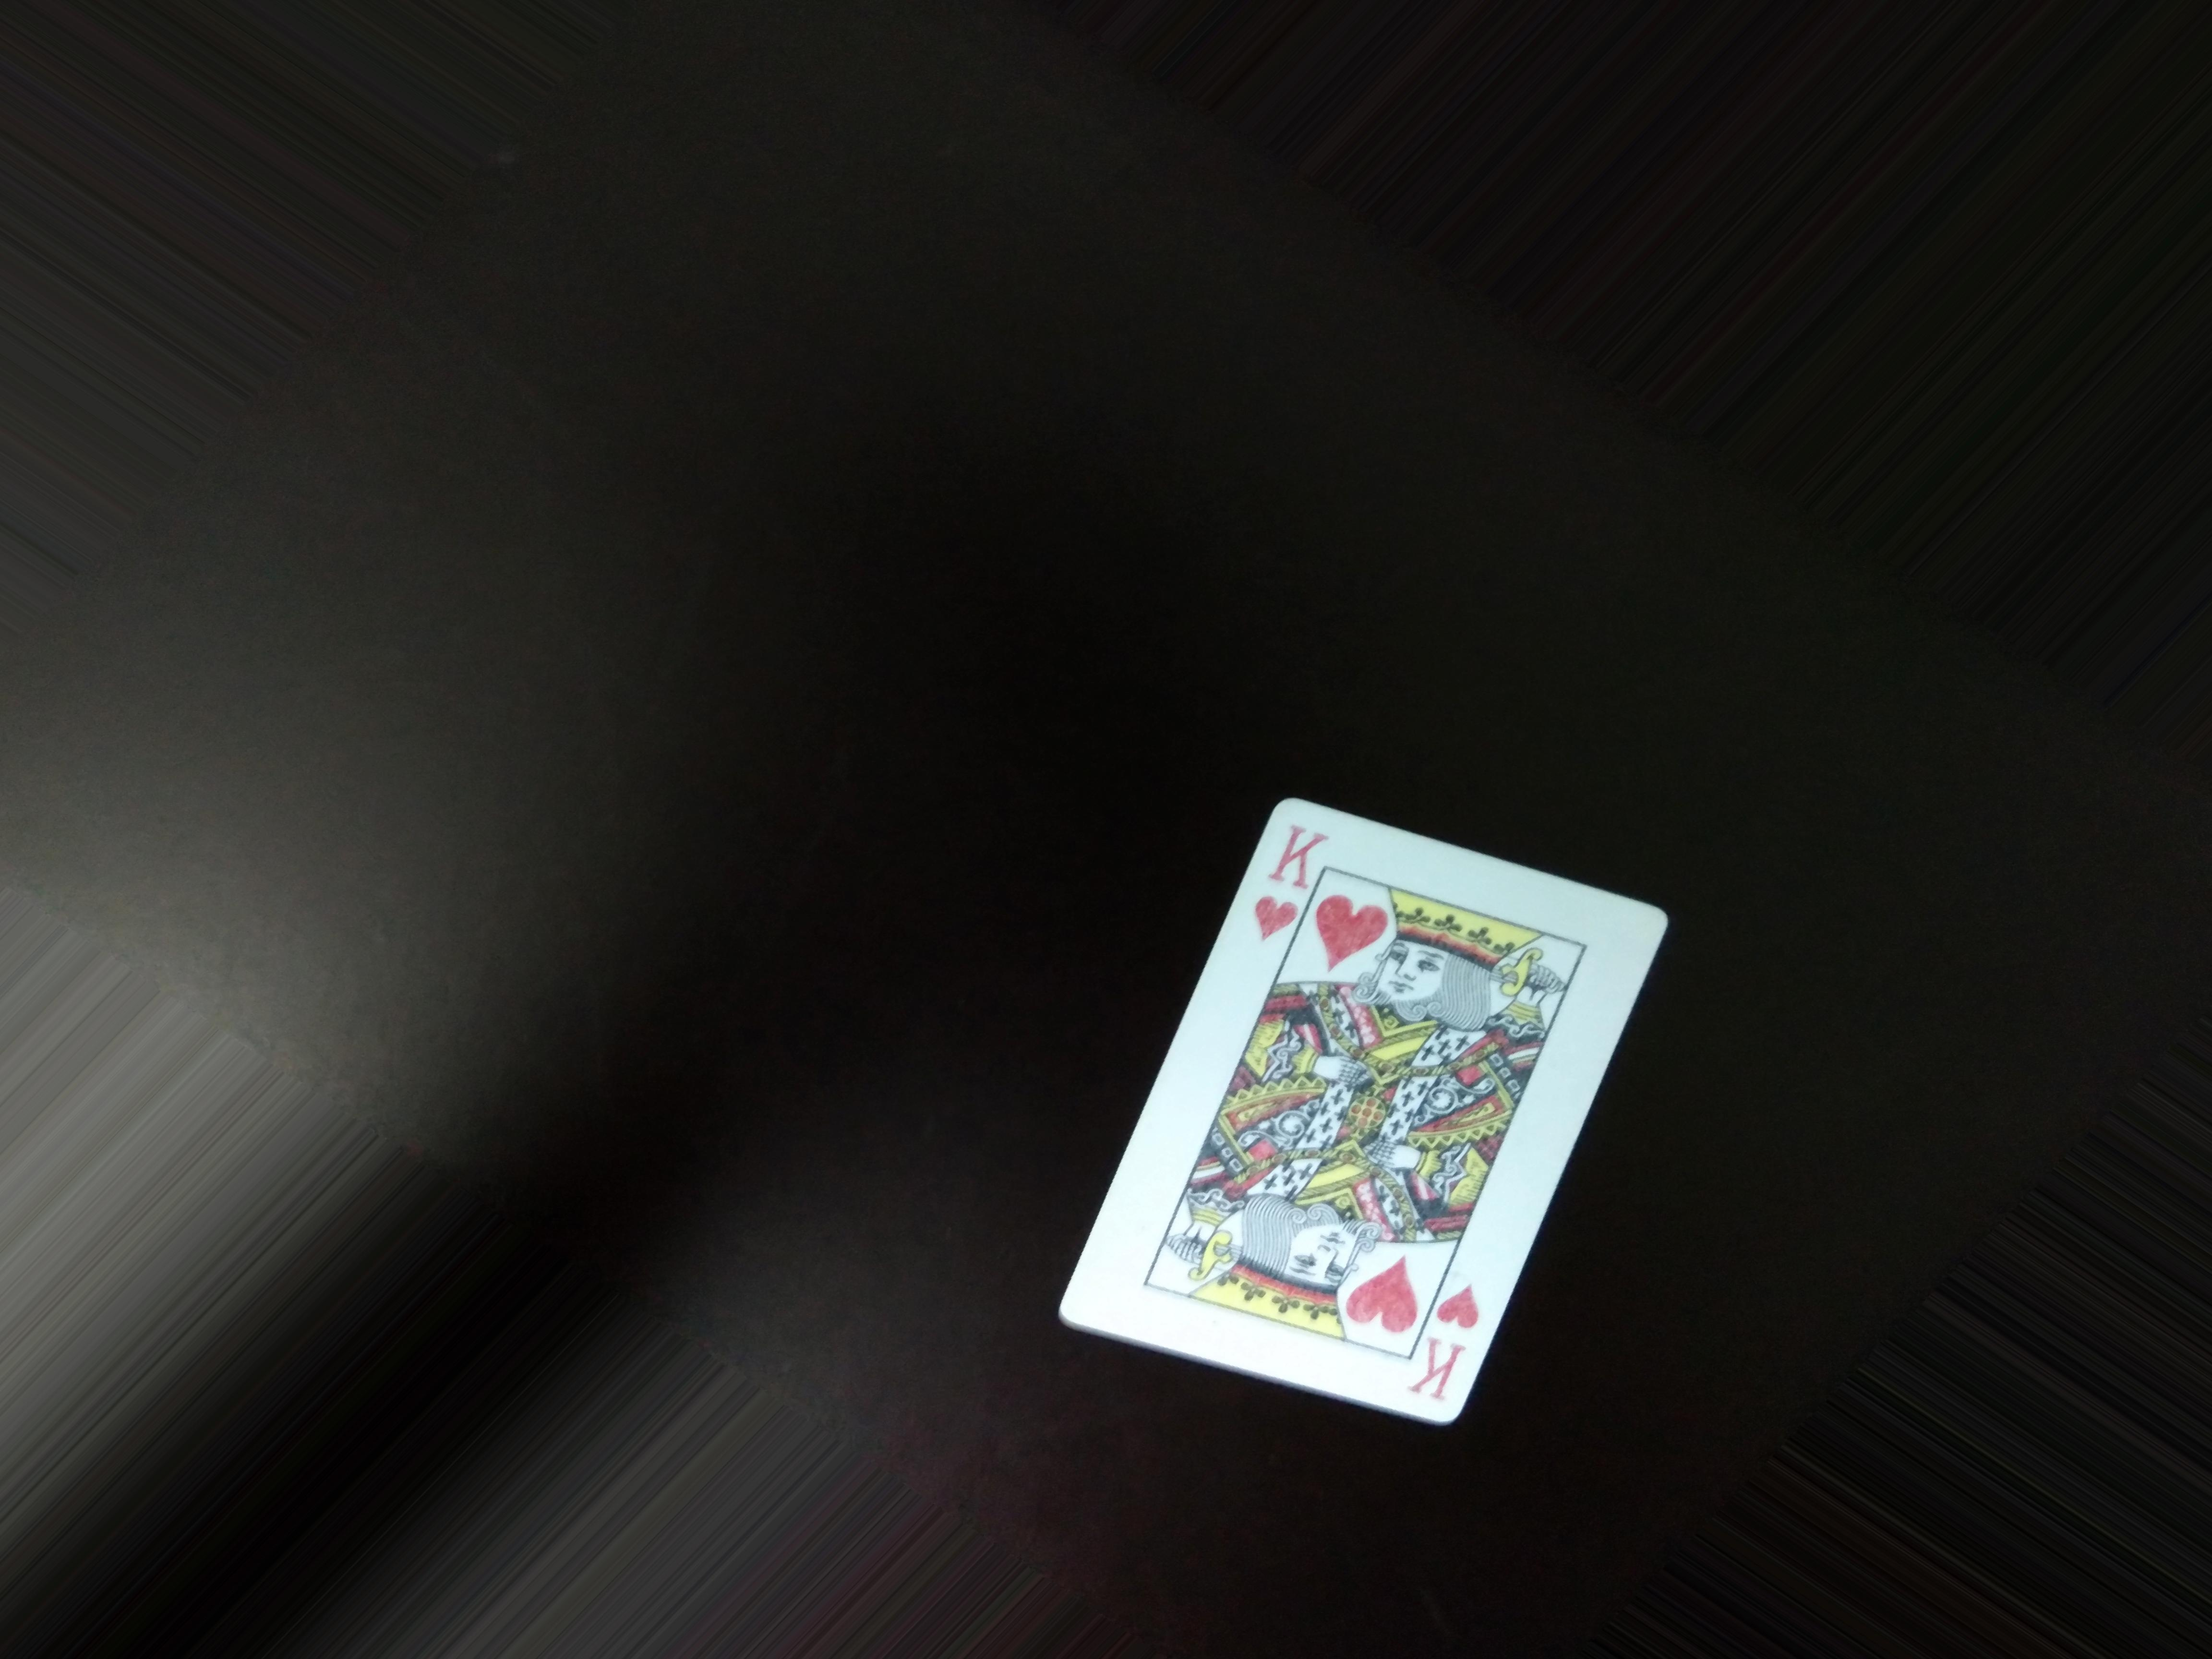KH: (1254, 803, 1320, 948)
